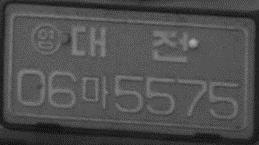0: (14, 67, 46, 108)
5: (206, 79, 240, 121), (144, 75, 176, 116), (112, 73, 144, 113)
6: (46, 69, 77, 108)
7: (176, 76, 208, 118)
대전_D: (69, 22, 190, 65)
마: (80, 73, 109, 110)
영: (30, 22, 63, 55)
